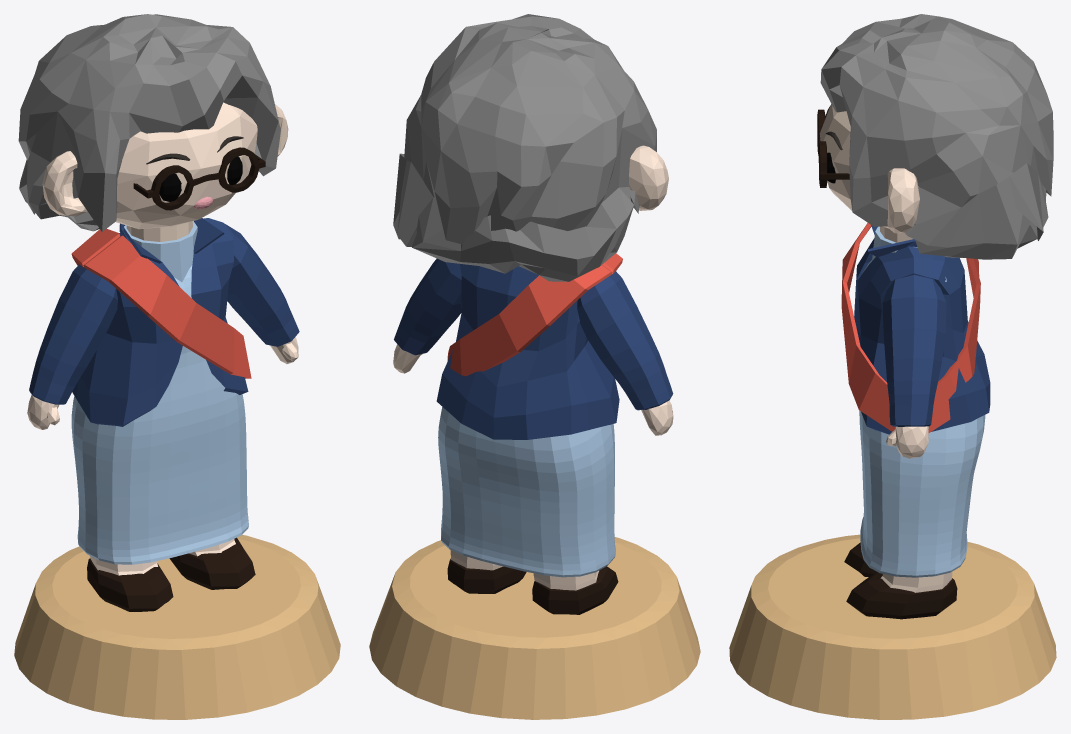
File: marta_diplomatica.fbx
The picture shows the model from 3 angles, left to right: view 1: azimuth 30°, elevation 25°; view 2: azimuth 150°, elevation 25°; view 3: azimuth 270°, elevation 25°; orthographic projection.
Visible parts, largest first — view 1: Cylinder.003, Sphere.008, Cube.019, Roundcube.020, Cube.017, Roundcube.019, Plane, Cube.024, Cylinder.012, Cube.038, Cylinder.033, Roundcube.006 (+3 smaller); view 2: Sphere.008, Cylinder.003, Cube.019, Roundcube.020, Cube.017, Plane, Cube.024, Cube.038, Cube.018, Roundcube.006; view 3: Sphere.008, Cylinder.003, Cube.019, Roundcube.020, Cube.017, Plane, Cube.024, Roundcube.019, Cube.038, Roundcube.006, Cube.018, Cylinder.012.
Boxes of the visible parts, x1,y1,x2,y2 form: Cylinder.003: (14, 534, 340, 719); Sphere.008: (18, 14, 280, 231); Cube.019: (71, 264, 248, 564); Roundcube.020: (72, 218, 248, 426); Cube.017: (29, 223, 299, 404); Roundcube.019: (115, 102, 257, 229); Plane: (71, 228, 251, 378); Cube.024: (87, 537, 255, 611); Cylinder.012: (133, 147, 265, 210); Cube.038: (42, 104, 288, 216); Cylinder.033: (124, 221, 197, 282); Roundcube.006: (27, 336, 298, 429); Sphere.008: (393, 14, 656, 281); Cylinder.003: (369, 537, 700, 719); Cube.019: (438, 407, 615, 577); Roundcube.020: (436, 264, 619, 439); Cube.017: (394, 258, 673, 410); Plane: (447, 253, 622, 376); Cube.024: (447, 558, 618, 614); Cube.038: (629, 145, 668, 210); Cube.018: (450, 550, 598, 590); Roundcube.006: (393, 344, 673, 435); Sphere.008: (820, 14, 1053, 259); Cylinder.003: (729, 534, 1056, 719); Cube.019: (859, 260, 985, 577); Roundcube.020: (854, 225, 990, 434); Cube.017: (882, 274, 946, 426); Plane: (841, 223, 980, 432); Cube.024: (844, 542, 957, 619); Roundcube.019: (819, 104, 918, 228); Cube.038: (887, 168, 919, 233); Roundcube.006: (886, 426, 928, 458); Cube.018: (880, 572, 952, 592); Cylinder.012: (817, 109, 849, 187).
Size of the model in its own units: 30.16 by 63.67 by 30.16.
